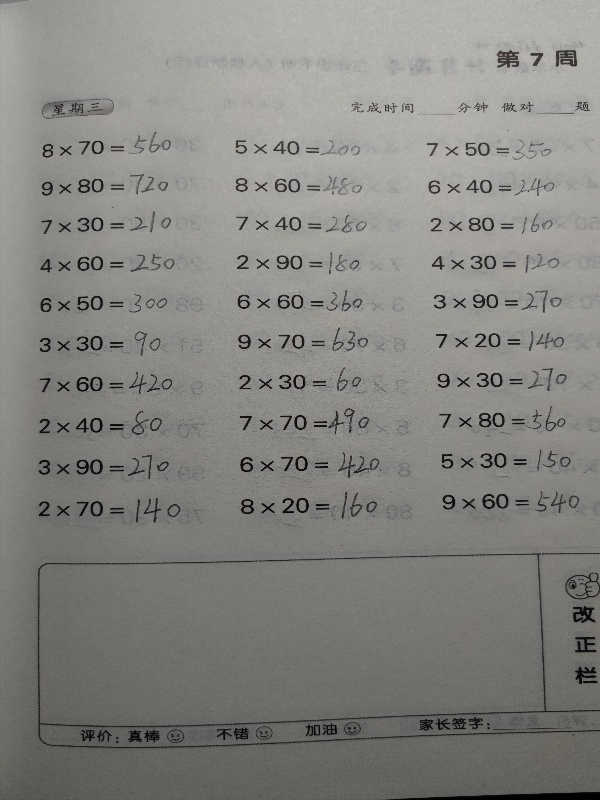equation: (35, 492, 187, 529), (238, 448, 392, 480), (35, 285, 177, 319), (238, 489, 387, 520), (437, 443, 579, 475), (34, 368, 189, 397), (33, 451, 176, 482), (232, 287, 369, 319), (233, 407, 379, 437), (32, 328, 170, 359), (234, 247, 366, 279), (429, 288, 565, 319), (37, 170, 182, 199), (32, 409, 170, 439), (236, 326, 374, 356), (432, 364, 571, 393), (428, 326, 567, 355), (36, 251, 184, 278), (37, 133, 174, 162), (439, 489, 586, 516), (424, 136, 555, 165), (39, 210, 179, 237), (232, 366, 370, 393), (427, 248, 562, 275), (232, 173, 366, 200), (436, 407, 570, 434), (232, 211, 371, 237), (426, 211, 556, 238), (424, 174, 559, 200), (232, 136, 365, 160)
